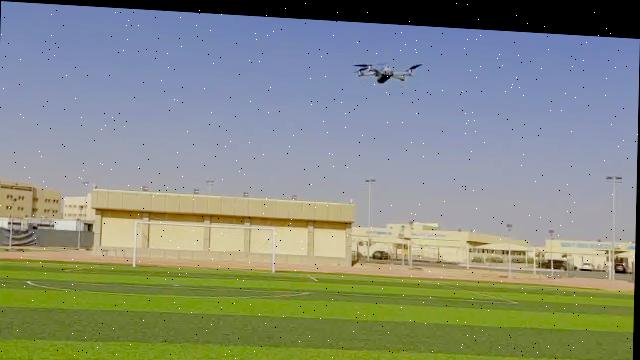drone: (349, 49, 425, 83)
